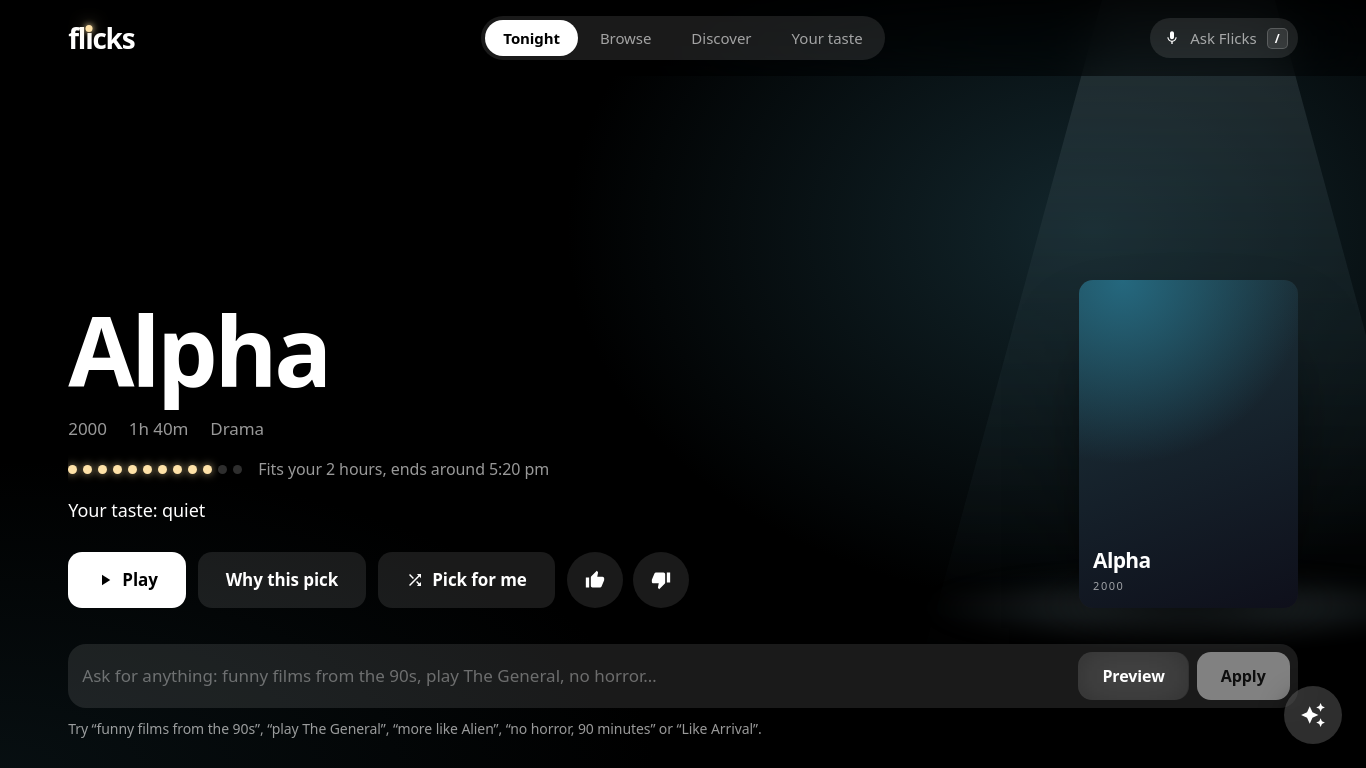
Test: “play” opens the details, with a note, when the title cannot be played
In the text box named "Ask Flicks": (573, 676) [76, 654, 1070, 698], type "play gamma"
Then press Enter
(page scrolled)
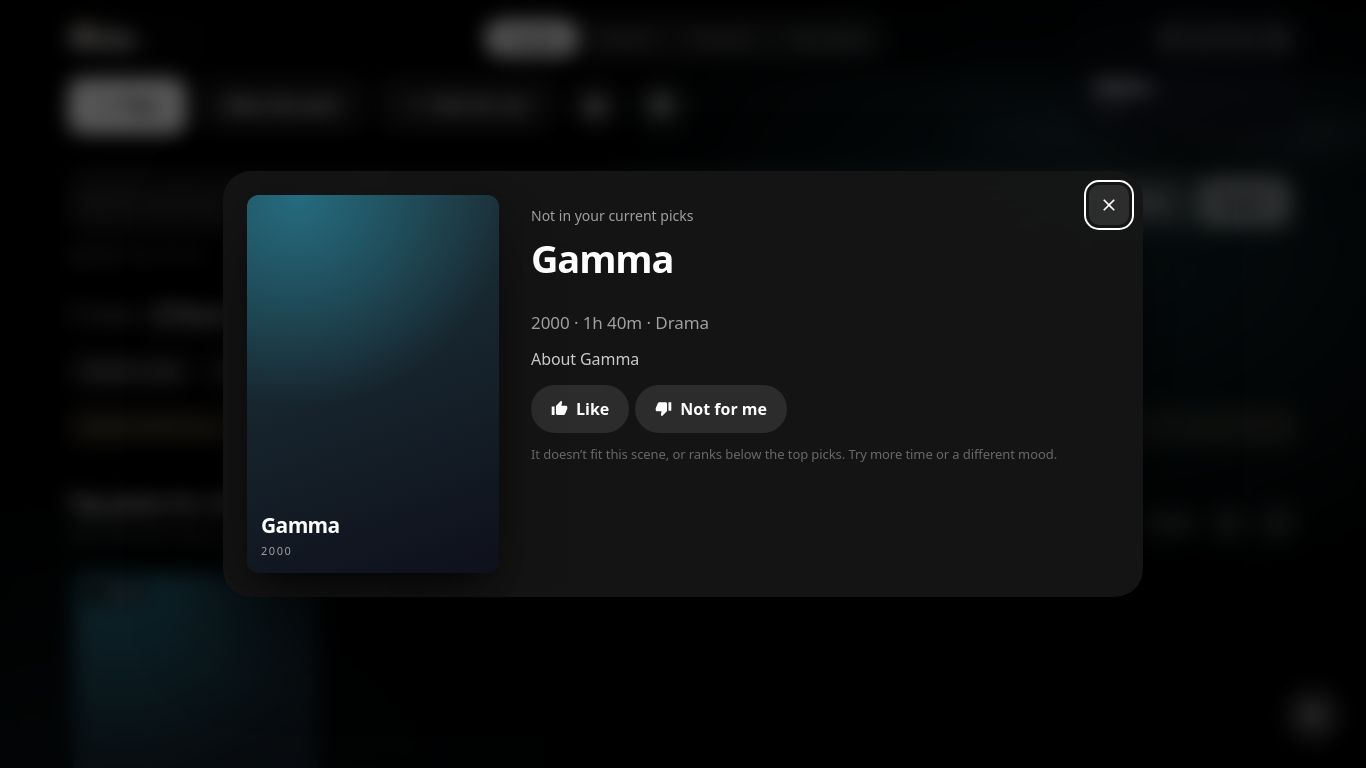
Check: the dialog "Gamma" is shown, box [223, 171, 1143, 597]
Check: the message shows "Gamma can’t be played here", box [82, 417, 443, 435]
